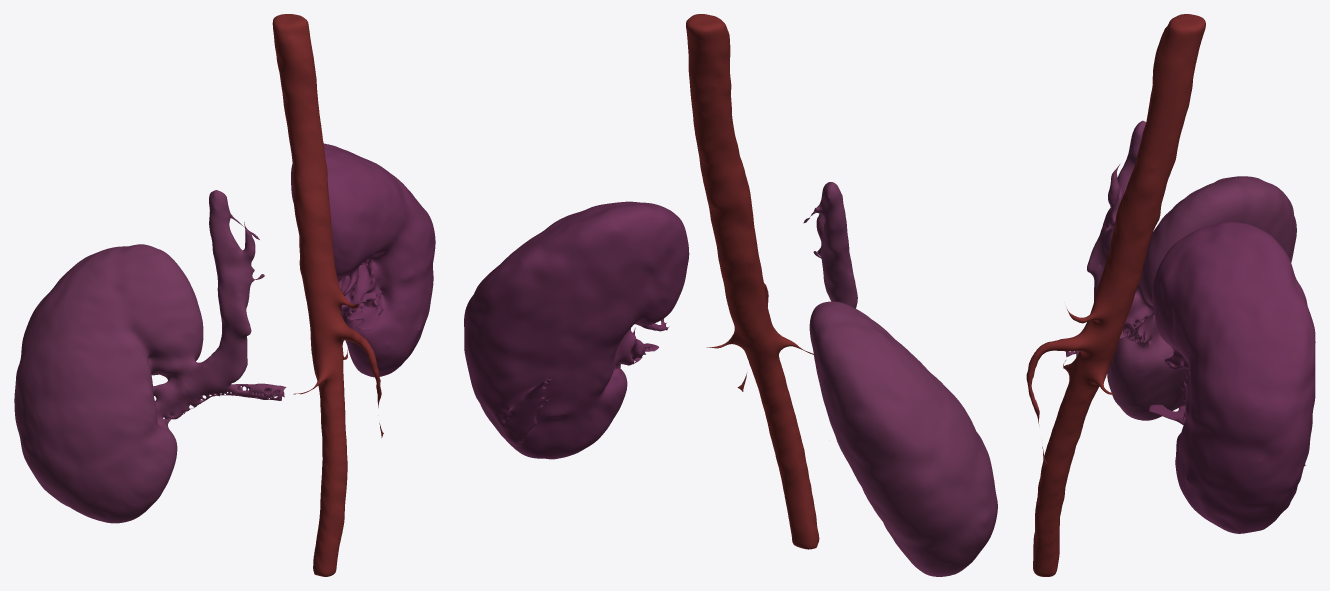
File: kidney.glb
The picture shows the model from 3 angles, left to right: view 1: azimuth 30°, elevation 25°; view 2: azimuth 150°, elevation 25°; view 3: azimuth 270°, elevation 25°; orthographic projection. The views are drawn at different scales.
Parts seen in each view (by area): view 1: Object_2, Object_4, Object_5, Object_3; view 2: Object_5, Object_2, Object_4, Object_3; view 3: Object_5, Object_4, Object_2, Object_3.
Part boxes in pixels (bbox=[...]): Object_2: bbox=[14, 190, 286, 523]; Object_4: bbox=[272, 14, 383, 576]; Object_5: bbox=[291, 143, 435, 377]; Object_3: bbox=[18, 277, 249, 399]; Object_5: bbox=[464, 201, 689, 459]; Object_2: bbox=[803, 182, 997, 576]; Object_4: bbox=[686, 14, 819, 549]; Object_3: bbox=[814, 288, 978, 470]; Object_5: bbox=[1149, 222, 1315, 533]; Object_4: bbox=[1026, 14, 1205, 576]; Object_2: bbox=[1065, 120, 1296, 420]; Object_3: bbox=[1089, 200, 1295, 316].
Bounding box in the file's own units: 196 × 220 × 101.
